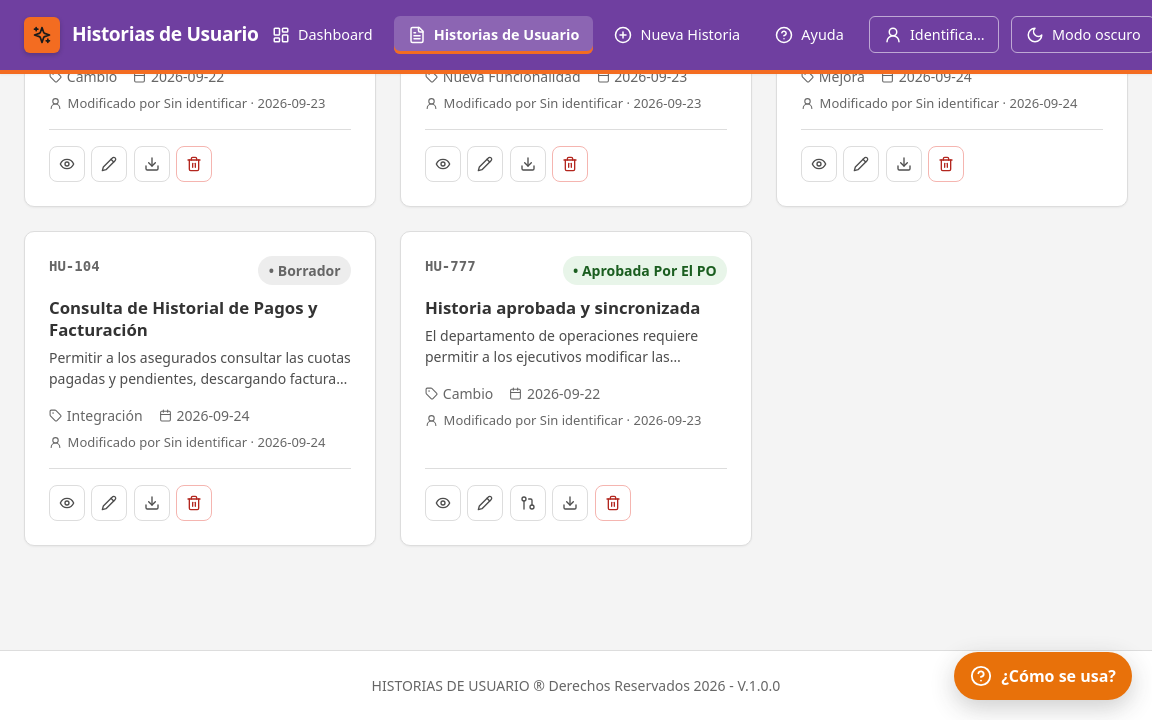
eliminar historias › una historia aprobada también se elimina del Repositorio de HU
(page scrolled)
Step 1. Click the button named "Eliminar historia HU-777" → (613, 503), box [595,485,631,521]
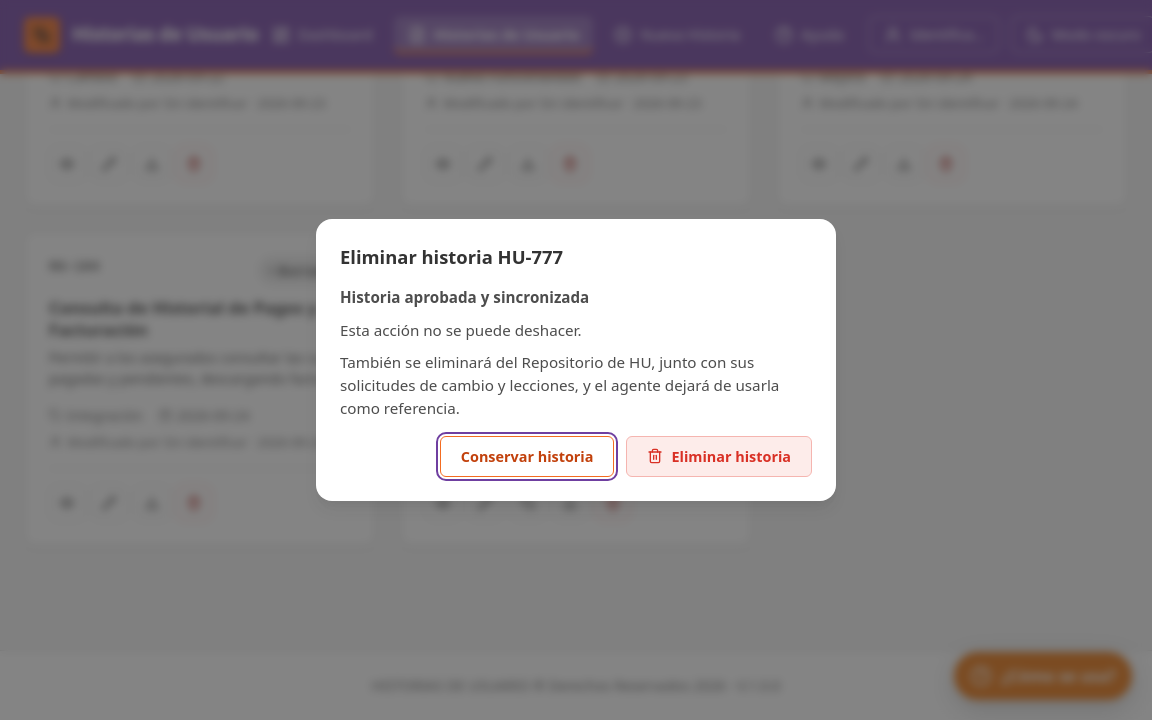
Expected: the text "También se eliminará del Repositorio de HU" is shown, [340,352,779,418]
Step 2. Click the button "Eliminar historia" → (719, 456), box [626,436,812,477]
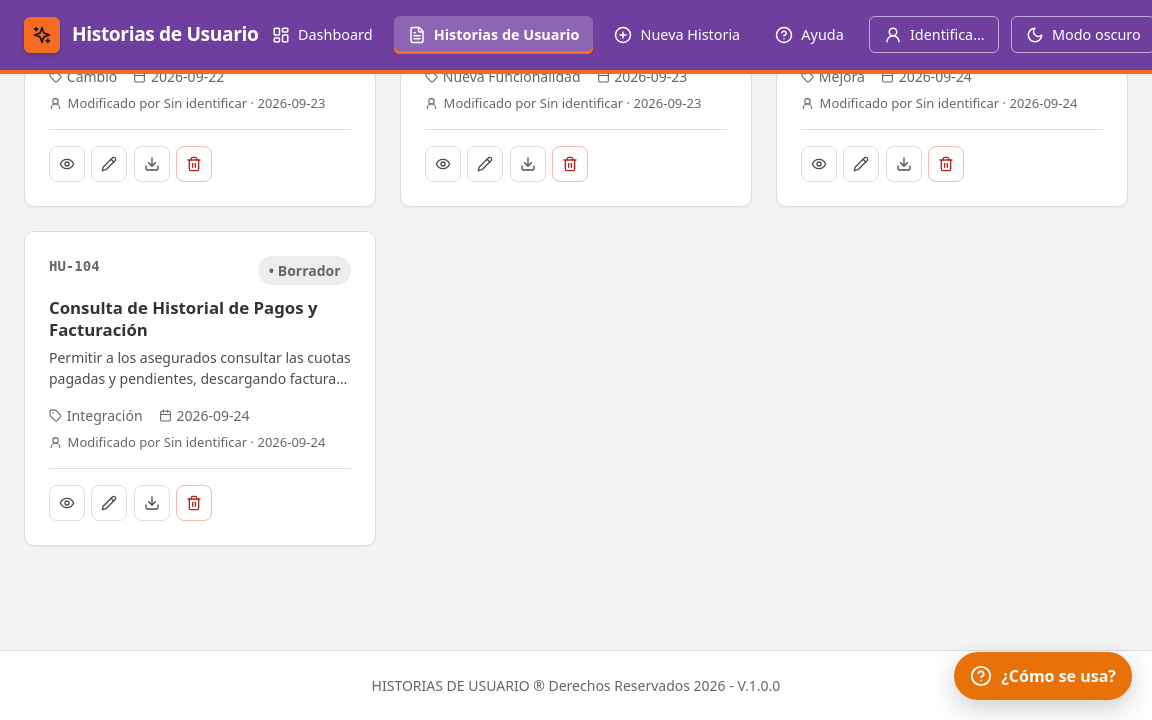
Expected: the text "HU-777" is gone
